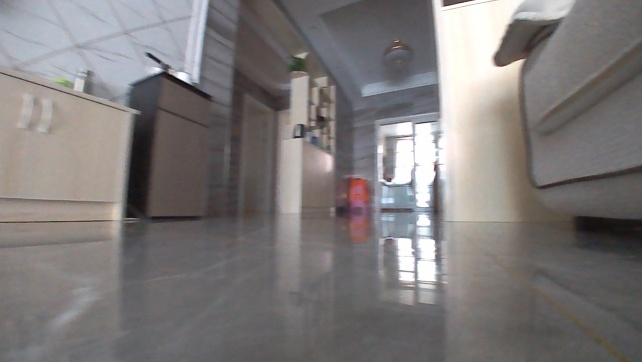refrigerator: (123, 65, 213, 223)
sofa1: (491, 0, 641, 235)
